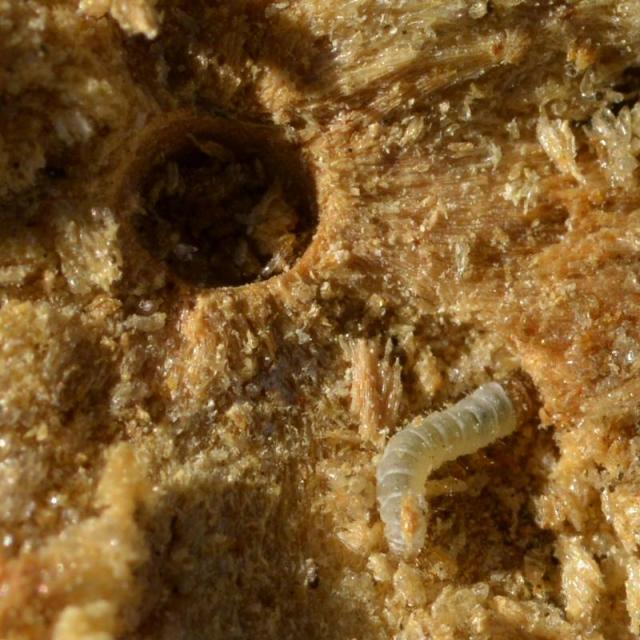Grub-Adult-: (365, 367, 537, 557)
